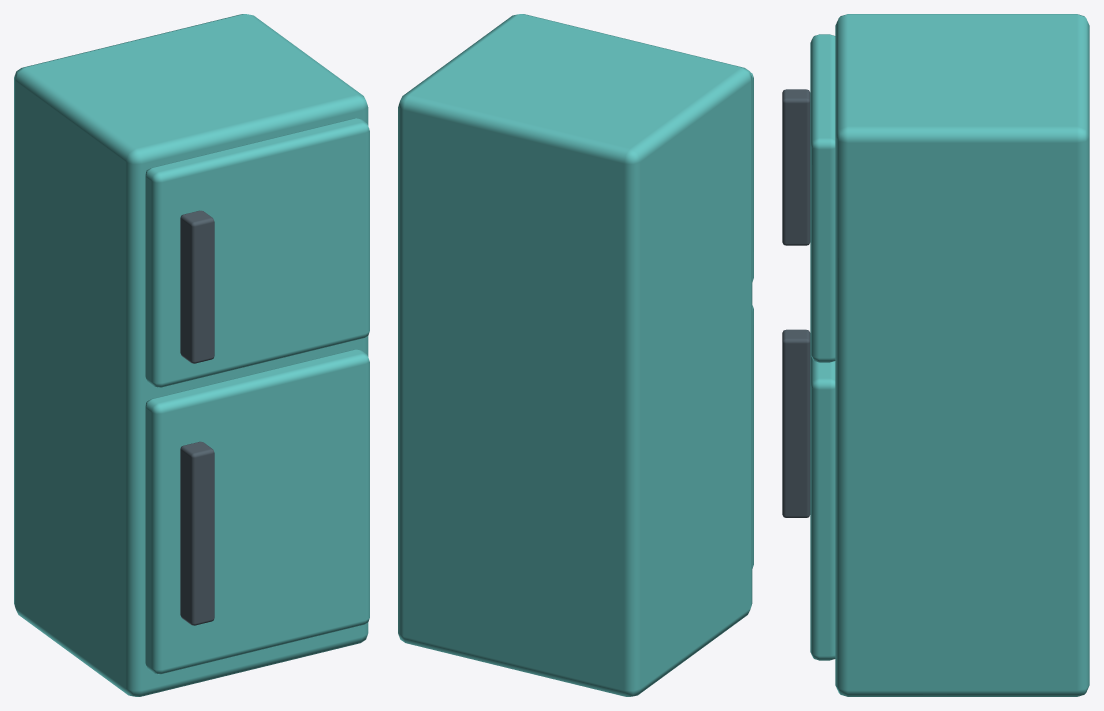
File: living-fridge.glb
3 views of the same model, side by side, from view 1: azimuth 30°, elevation 25°; view 2: azimuth 150°, elevation 25°; view 3: azimuth 270°, elevation 25° (orthographic). The views are drawn at different scales.
Visible parts, largest first — view 1: body, bottom-door, top-door, bottom-handle, top-handle; view 2: body; view 3: body, top-door, bottom-door, bottom-handle, top-handle.
Part boxes in pixels (x1,y1,x2,y2): body: (14,14,368,696); bottom-door: (145,349,369,674); top-door: (145,118,369,387); bottom-handle: (180,441,214,625); top-handle: (180,210,214,363); body: (398,14,752,696); body: (835,14,1089,696); top-door: (810,34,835,362); bottom-door: (810,354,835,660); bottom-handle: (782,329,810,517); top-handle: (782,89,810,245).
Bounding box in the file's own units: 0.82 × 1.78 × 0.87.
